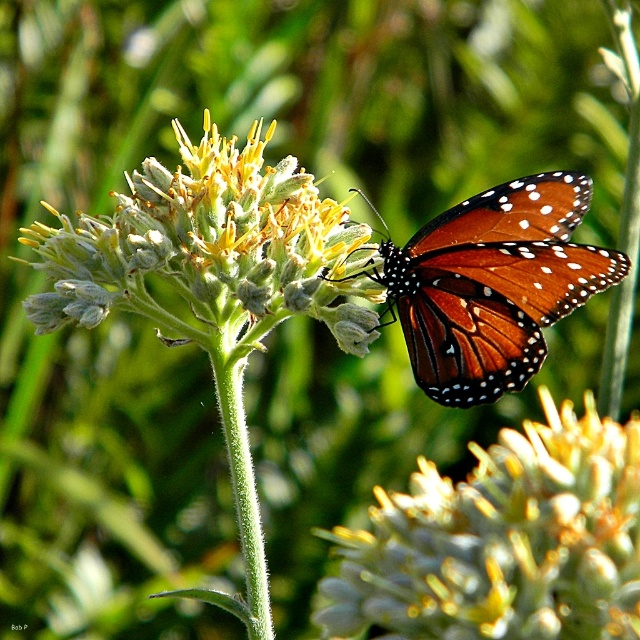Butterfly: (328, 169, 590, 411)
